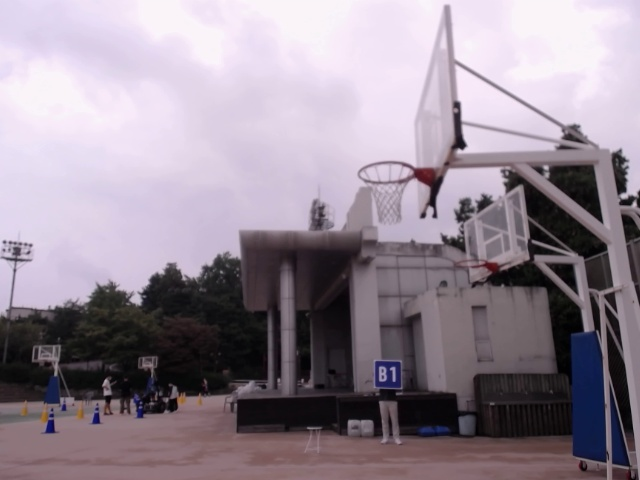delivery_b1: (373, 360, 403, 389)
